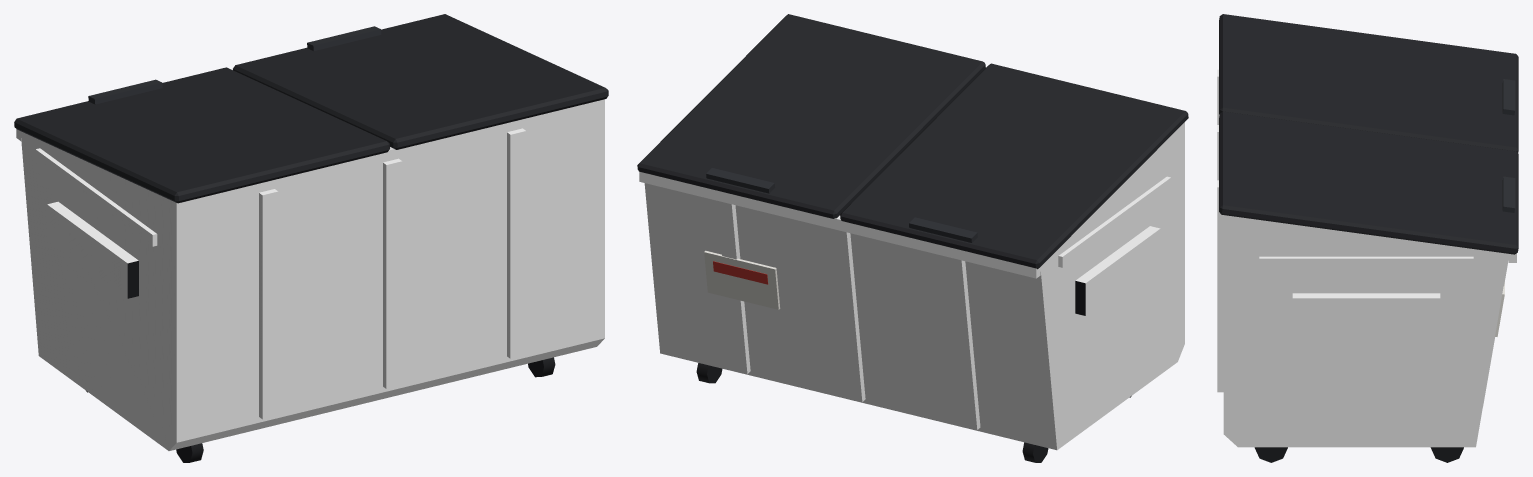
Rendered from prop_dumpster.glb.
3 renders of one model, left to right at view 1: azimuth 30°, elevation 25°; view 2: azimuth 150°, elevation 25°; view 3: azimuth 270°, elevation 25°, orthographic. The views are drawn at different scales.
Visible parts, largest first — view 1: prop_dumpster__mesh; view 2: prop_dumpster__mesh; view 3: prop_dumpster__mesh.
Part boxes in pixels (x1,y1,x2,y2): prop_dumpster__mesh: (14, 14, 608, 462); prop_dumpster__mesh: (637, 14, 1188, 462); prop_dumpster__mesh: (1217, 14, 1518, 462).
Size of the model in its own units: 2 by 1.26 by 1.27.
1 material, 1 textured.
